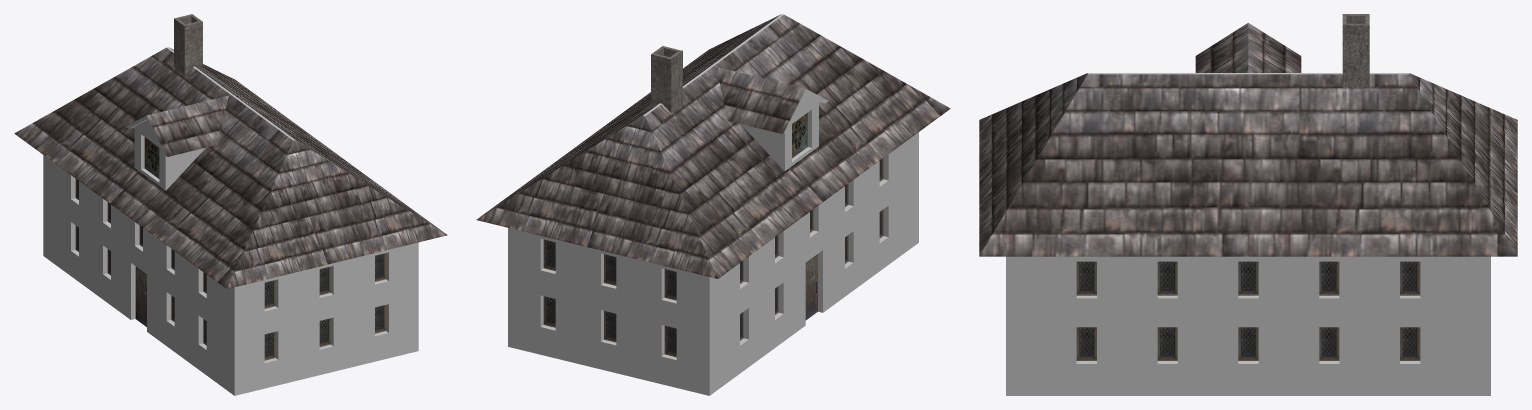
File: VBuilding.fbx
3 renders of one model, left to right at view 1: azimuth 30°, elevation 25°; view 2: azimuth 150°, elevation 25°; view 3: azimuth 270°, elevation 25°, orthographic. The views are drawn at different scales.
Visible parts, largest first — view 1: VBuilding; view 2: VBuilding; view 3: VBuilding.
Boxes of the visible parts, x1,y1,x2,y2 form: VBuilding: (14,14,447,395); VBuilding: (476,14,950,395); VBuilding: (979,14,1517,395).
Size of the model in its own units: 1200 by 1309 by 2000.
